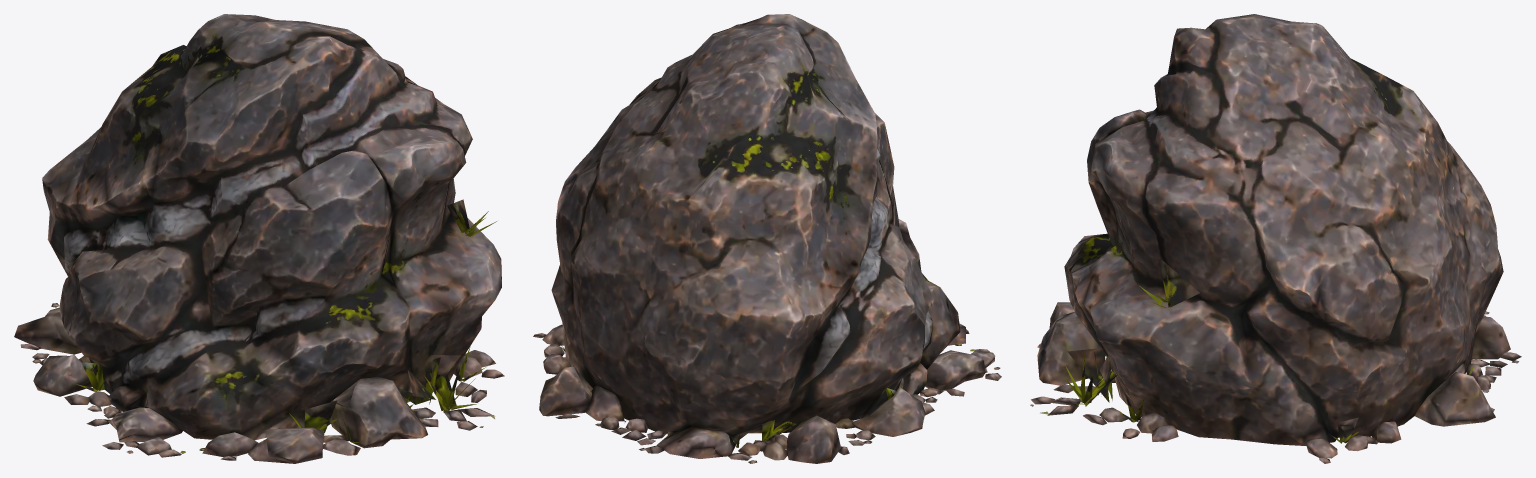
The model's file is eisen-leer.glb.
The picture shows the model from 3 angles, left to right: view 1: azimuth 30°, elevation 25°; view 2: azimuth 150°, elevation 25°; view 3: azimuth 270°, elevation 25°; orthographic projection. The views are drawn at different scales.
Visible parts, largest first — view 1: baum; view 2: baum; view 3: baum.
Part boxes in pixels (x1,y1,x2,y2): baum: (14, 14, 504, 463); baum: (533, 14, 1001, 463); baum: (1030, 14, 1521, 463).
Size of the model in its own units: 1.79 by 1.4 by 1.83.
Materials: 1 (1 with a texture image).
